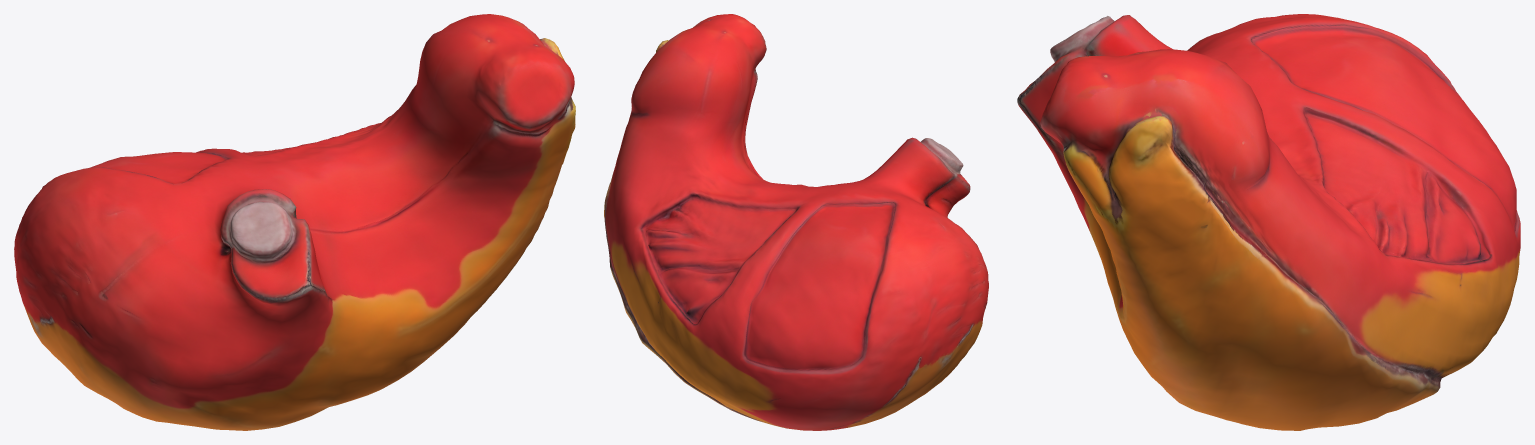
File: Meshy_AI_Human_stomach_model_0217223854_texture.fbx
3 renders of one model, left to right at view 1: azimuth 30°, elevation 25°; view 2: azimuth 150°, elevation 25°; view 3: azimuth 270°, elevation 25°, orthographic. The views are drawn at different scales.
Visible parts, largest first — view 1: Mesh_0; view 2: Mesh_0; view 3: Mesh_0.
Boxes of the visible parts, box(x1,y1,x2,y2) form: Mesh_0: box(14, 14, 575, 430); Mesh_0: box(604, 14, 988, 430); Mesh_0: box(1017, 14, 1520, 430).
Size of the model in its own units: 200 by 158 by 163.
1 material, 1 textured.
